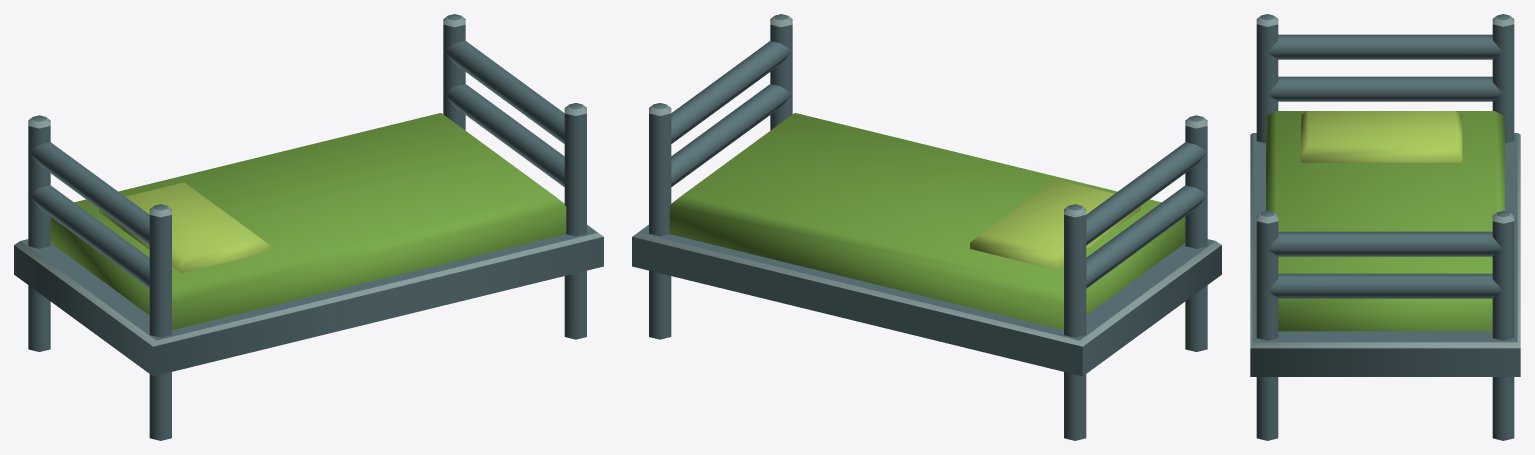
The model's file is Bed.fbx.
The picture shows the model from 3 angles, left to right: view 1: azimuth 30°, elevation 25°; view 2: azimuth 150°, elevation 25°; view 3: azimuth 270°, elevation 25°; orthographic projection. The views are drawn at different scales.
Visible parts, largest first — view 1: Bed; view 2: Bed; view 3: Bed.
Boxes of the visible parts, x1,y1,x2,y2 form: Bed: (14,14,603,440); Bed: (632,14,1221,440); Bed: (1250,14,1520,440).
Size of the model in its own units: 179 by 86.33 by 95.4.
